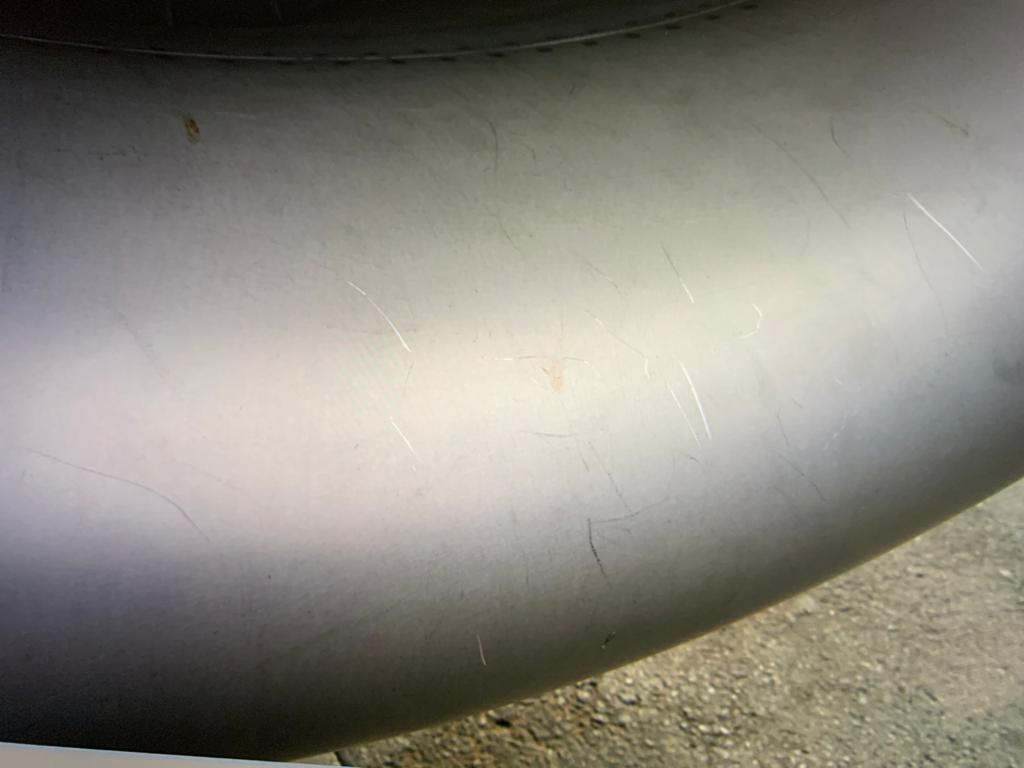scratch: (21, 445, 210, 542), (555, 485, 679, 586), (750, 124, 850, 231), (907, 193, 984, 267), (582, 308, 653, 381), (345, 279, 411, 352), (582, 437, 631, 515), (496, 354, 600, 382), (659, 242, 694, 303), (779, 458, 826, 502), (682, 365, 710, 437), (668, 387, 698, 445), (829, 116, 855, 165), (737, 301, 762, 342), (496, 202, 517, 249), (389, 421, 417, 456), (932, 112, 970, 135), (488, 119, 504, 169), (524, 427, 603, 436), (775, 404, 788, 447), (476, 632, 486, 666), (790, 398, 801, 409)
